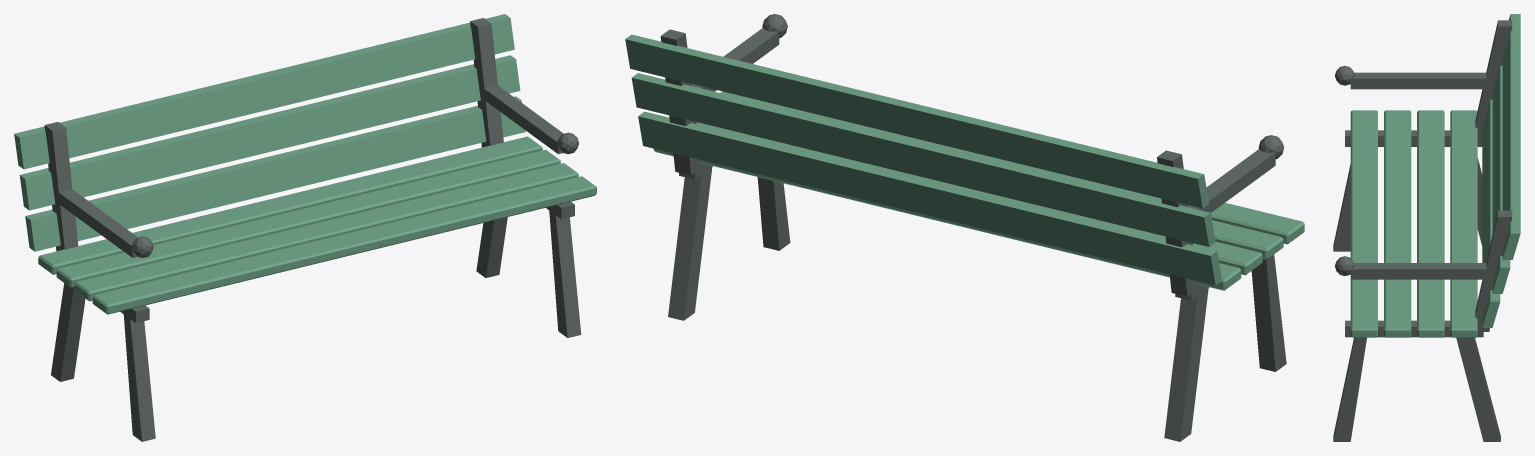
Rendered from bench.glb.
3 views of the same model, side by side, from view 1: azimuth 30°, elevation 25°; view 2: azimuth 150°, elevation 25°; view 3: azimuth 270°, elevation 25° (orthographic). The views are drawn at different scales.
Visible parts, largest first — view 1: bench_bench_g, bench_iron; view 2: bench_bench_g, bench_iron; view 3: bench_bench_g, bench_iron.
Boxes of the visible parts, left/top/right/bottom form: bench_bench_g: left=14, top=14, right=596, bottom=314; bench_iron: left=44, top=18, right=581, bottom=441; bench_bench_g: left=625, top=34, right=1304, bottom=290; bench_iron: left=660, top=14, right=1286, bottom=441; bench_bench_g: left=1350, top=14, right=1520, bottom=337; bench_iron: left=1333, top=20, right=1512, bottom=441.
Size of the model in its own units: 1.8 by 0.86 by 0.6484.
